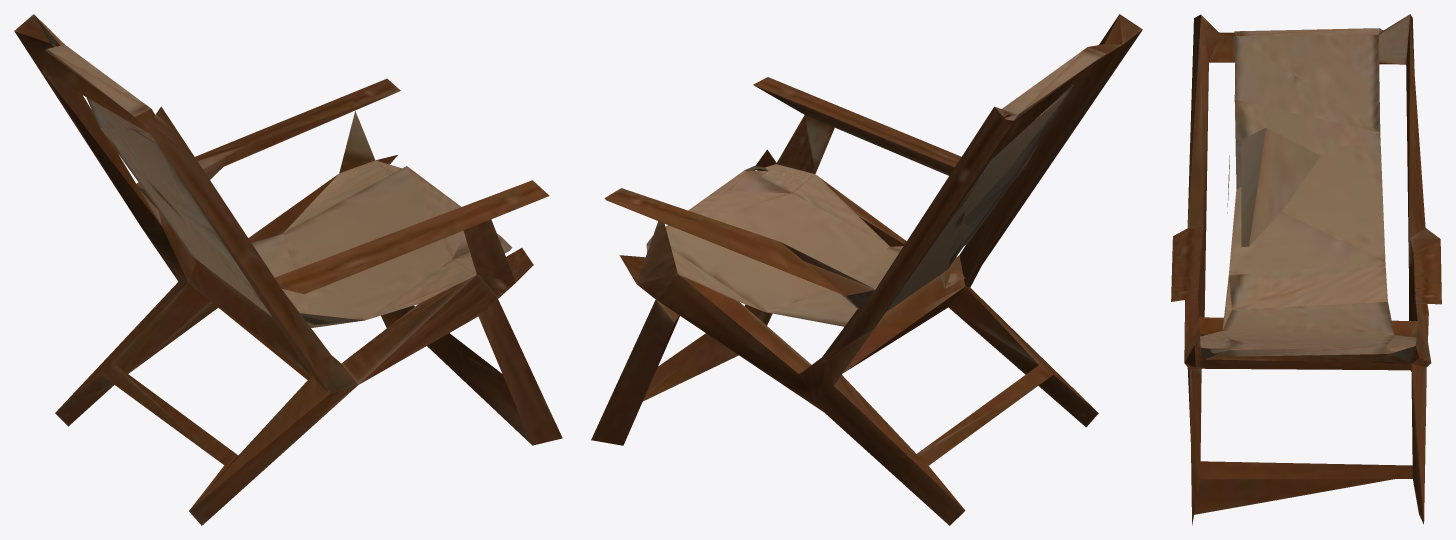
The model's file is mj-deck-chair.lod1.glb.
The picture shows the model from 3 angles, left to right: view 1: azimuth 30°, elevation 25°; view 2: azimuth 150°, elevation 25°; view 3: azimuth 270°, elevation 25°; orthographic projection. The views are drawn at different scales.
Visible parts, largest first — view 1: mj-deck-chair; view 2: mj-deck-chair; view 3: mj-deck-chair.
Part boxes in pixels (x1,y1,x2,y2): mj-deck-chair: (14, 14, 562, 525); mj-deck-chair: (591, 14, 1142, 525); mj-deck-chair: (1171, 14, 1441, 525).
Size of the model in its own units: 0.9181 by 0.9 by 0.6264.
Materials: 1 (1 with a texture image).
